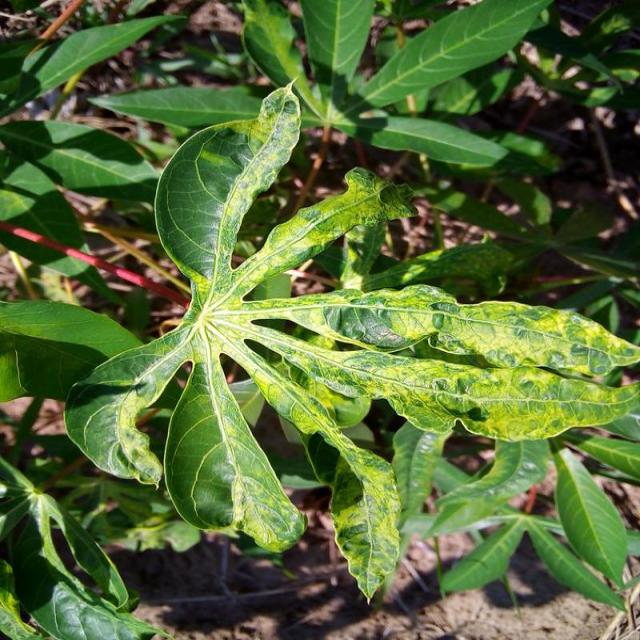cassava leaf: (59, 74, 639, 604)
